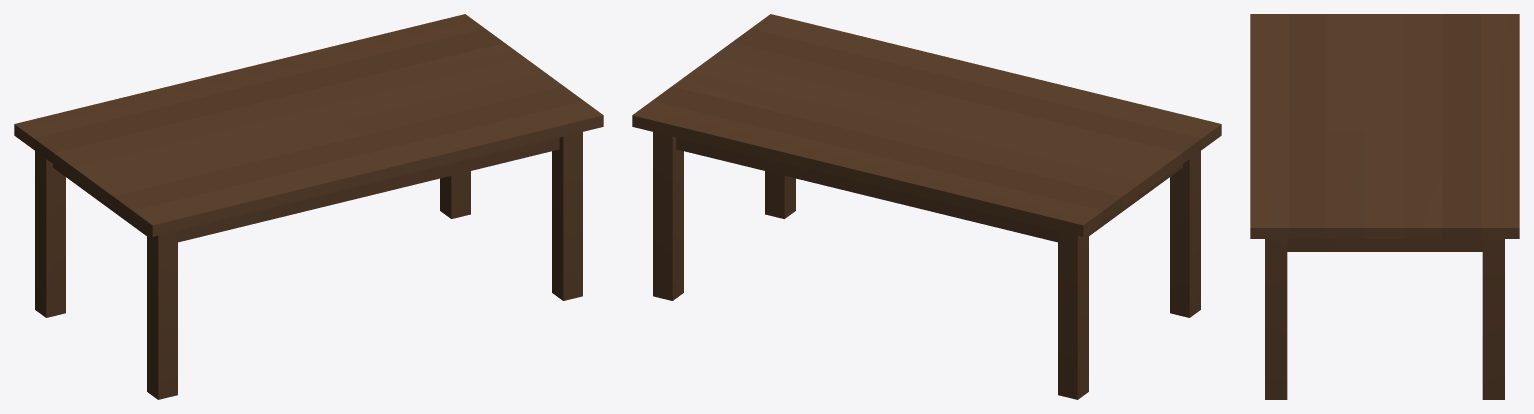
The model's file is table.dining.walnut.glb.
3 views of the same model, side by side, from view 1: azimuth 30°, elevation 25°; view 2: azimuth 150°, elevation 25°; view 3: azimuth 270°, elevation 25° (orthographic). The views are drawn at different scales.
Parts seen in each view (by area): view 1: table_dining_walnut; view 2: table_dining_walnut; view 3: table_dining_walnut.
Part boxes in pixels (x1,y1,x2,y2): table_dining_walnut: (14,14,603,399); table_dining_walnut: (632,14,1221,399); table_dining_walnut: (1250,14,1519,399).
Size of what is drawn, in the model's own units: 2.06 by 0.8 by 1.1.
